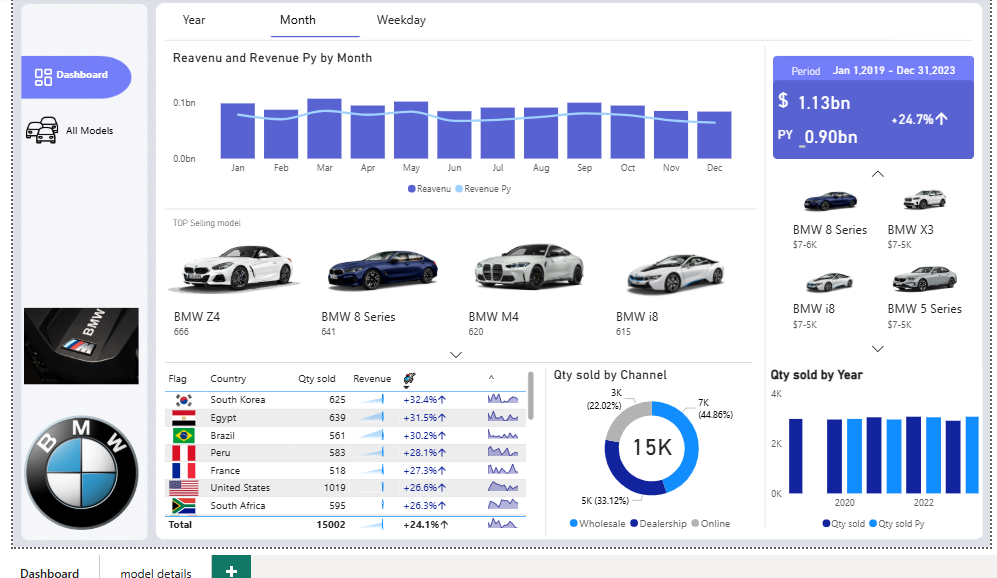

This screenshot's page, from the dashboard's own definition file:
{"tool":"powerbi","page":{"name":"Dashboard","canvas":[1280,720],"ordinal":0},"visuals":[{"type":"image","box":[0,0,1280,720.2],"z":0},{"type":"lineClusteredColumnComboChart","fields":{"Category":["Calendar.Weekday"],"Y":["all measure.Reavenu"],"Y2":["all measure.Revenue Py"]},"box":[204.5,69.1,764.6,200.2],"z":1000},{"type":"advancedSlicerVisual","fields":{"Values":["PERIOD.PERIOD"]},"box":[204.1,0,383.4,58.3],"z":2000},{"type":"card","fields":{"Values":["all measure.Reavenu"]},"box":[1005.9,113.7,112.3,46.7],"z":3000},{"type":"card","fields":{"Values":["all measure.Revenue Py"]},"box":[1030.7,160.4,81.6,42.3],"z":4000},{"type":"textbox","title":"PY","box":[996.5,169.9,46.1,31.7],"z":5000},{"type":"card","fields":{"Values":["all measure.Revenue Variance % arrow"]},"box":[1121.1,128.3,132.7,62.7],"z":6000},{"type":"card","fields":{"Values":["all measure.selected period"]},"box":[1054,80.2,199.7,33.5],"z":7000},{"type":"textbox","title":"Period","box":[997.2,88.9,81.6,17.5],"z":8000},{"type":"textbox","title":"$","box":[995.7,119.5,26.2,37.9],"z":9000},{"type":"advancedSlicerVisual","fields":{"Values":["dim model.Model"],"Label":["all measure.Qty sold"]},"box":[193.1,278.9,775.9,205.6],"z":10000},{"type":"textbox","box":[204.1,279.9,145.8,29.2],"z":11000},{"type":"advancedSlicerVisual","fields":{"Values":["dim model.Model"],"Label":["all measure.AVG PRICE FORMATTED"]},"box":[1002.9,216.3,259.2,259.2],"z":12000},{"type":"clusteredColumnChart","title":"Qty sold by Year","fields":{"Y":["all measure.Qty sold","all measure.Qty sold Py"],"Category":["Calendar.Year"]},"box":[986.8,484.5,282.5,223.5],"z":13000},{"type":"donutChart","fields":{"Y":["all measure.Qty sold"],"Category":["dim channel.Channel"]},"box":[702.6,484.5,266.4,223.5],"z":14000},{"type":"card","fields":{"Values":["all measure.Qty sold"]},"box":[784.8,554.2,101.9,66.1],"z":15000},{"type":"tableEx","fields":{"Values":["dim country.Flag","dim country.Country","all measure.Qty sold","all measure.Qty sold Gradient Sparkline","all measure.Qty sold Variance % arrow","all measure.Revenue Sparkline"]},"box":[193,483.8,495.4,223.2],"z":16000},{"type":"shape","box":[61.9,146.9,77.8,54.7],"z":17000},{"type":"image","box":[17.3,152.6,41.8,41.8],"z":18000},{"type":"shape","box":[17.3,73.4,146.9,54.7],"z":19000},{"type":"image","box":[14.4,92.2,50.4,27.4],"z":20000},{"type":"image","box":[14.4,540,149.8,164.2],"z":21000},{"type":"image","box":[14.4,397.4,149.8,118.1],"z":22000},{"type":"shape","box":[1153.4,10.1,108,44.6],"z":22001}]}

Visuals, with their boxes on the page's 1280x720 design canvas (x1, y1, x2, y2). These are canvas units, not pixel positions in the 997x578 screenshot, which may show the page scaled, cropped or inside an application window:
image: <region>0, 0, 1280, 720</region>
lineClusteredColumnComboChart - Calendar.Weekday x all measure.Reavenu: <region>204, 69, 969, 269</region>
advancedSlicerVisual - PERIOD.PERIOD: <region>204, 0, 588, 58</region>
card - all measure.Reavenu: <region>1006, 114, 1118, 160</region>
card - all measure.Revenue Py: <region>1031, 160, 1112, 203</region>
"PY" textbox: <region>996, 170, 1043, 202</region>
card - all measure.Revenue Variance % arrow: <region>1121, 128, 1254, 191</region>
card - all measure.selected period: <region>1054, 80, 1254, 114</region>
"Period" textbox: <region>997, 89, 1079, 106</region>
"$" textbox: <region>996, 120, 1022, 157</region>
advancedSlicerVisual - dim model.Model x all measure.Qty sold: <region>193, 279, 969, 484</region>
textbox: <region>204, 280, 350, 309</region>
advancedSlicerVisual - dim model.Model x all measure.AVG PRICE FORMATTED: <region>1003, 216, 1262, 476</region>
"Qty sold by Year" clusteredColumnChart: <region>987, 484, 1269, 708</region>
donutChart - all measure.Qty sold x dim channel.Channel: <region>703, 484, 969, 708</region>
card - all measure.Qty sold: <region>785, 554, 887, 620</region>
tableEx - dim country.Flag x dim country.Country: <region>193, 484, 688, 707</region>
shape: <region>62, 147, 140, 202</region>
image: <region>17, 153, 59, 194</region>
shape: <region>17, 73, 164, 128</region>
image: <region>14, 92, 65, 120</region>
image: <region>14, 540, 164, 704</region>
image: <region>14, 397, 164, 516</region>
shape: <region>1153, 10, 1261, 55</region>
